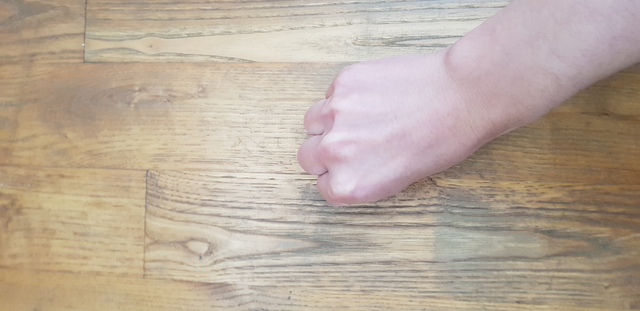Rock: (273, 52, 485, 215)
